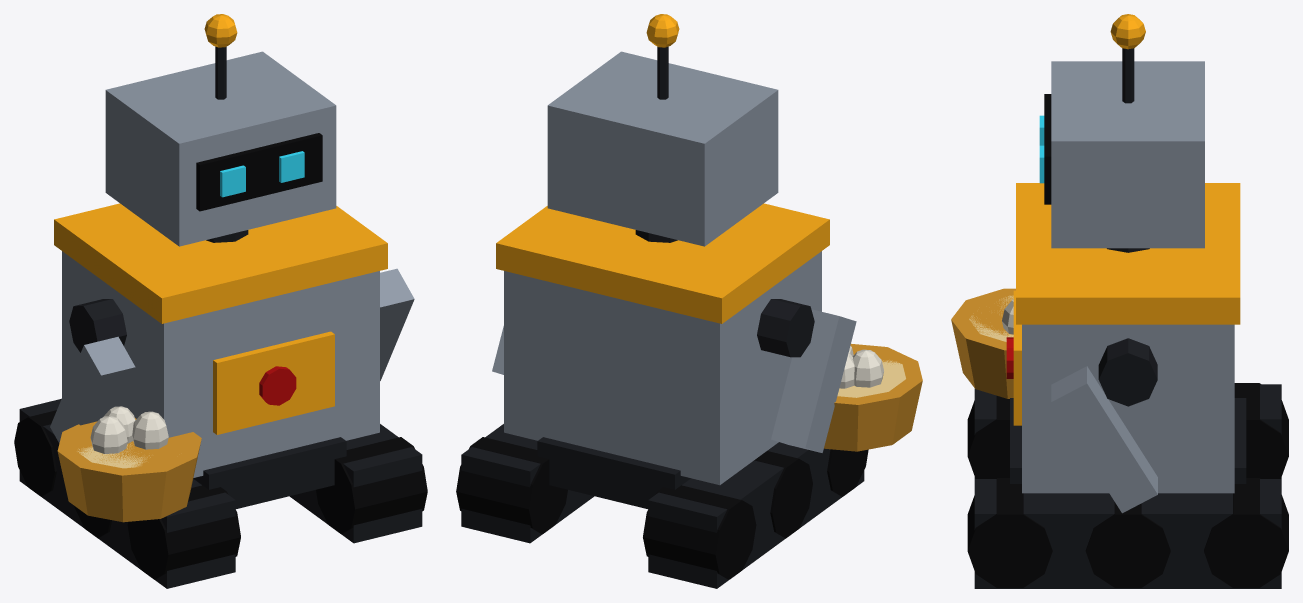
The model's file is RoboPicker.obj.
3 renders of one model, left to right at view 1: azimuth 30°, elevation 25°; view 2: azimuth 150°, elevation 25°; view 3: azimuth 270°, elevation 25°, orthographic. The views are drawn at different scales.
Visible parts, largest first — view 1: RoboPicker; view 2: RoboPicker; view 3: RoboPicker.
Boxes of the visible parts, box(x1,y1,x2,y2) form: RoboPicker: box(14, 14, 427, 588); RoboPicker: box(456, 14, 922, 588); RoboPicker: box(951, 14, 1288, 588).
Size of the model in its own units: 1.02 by 1.33 by 0.8008.
